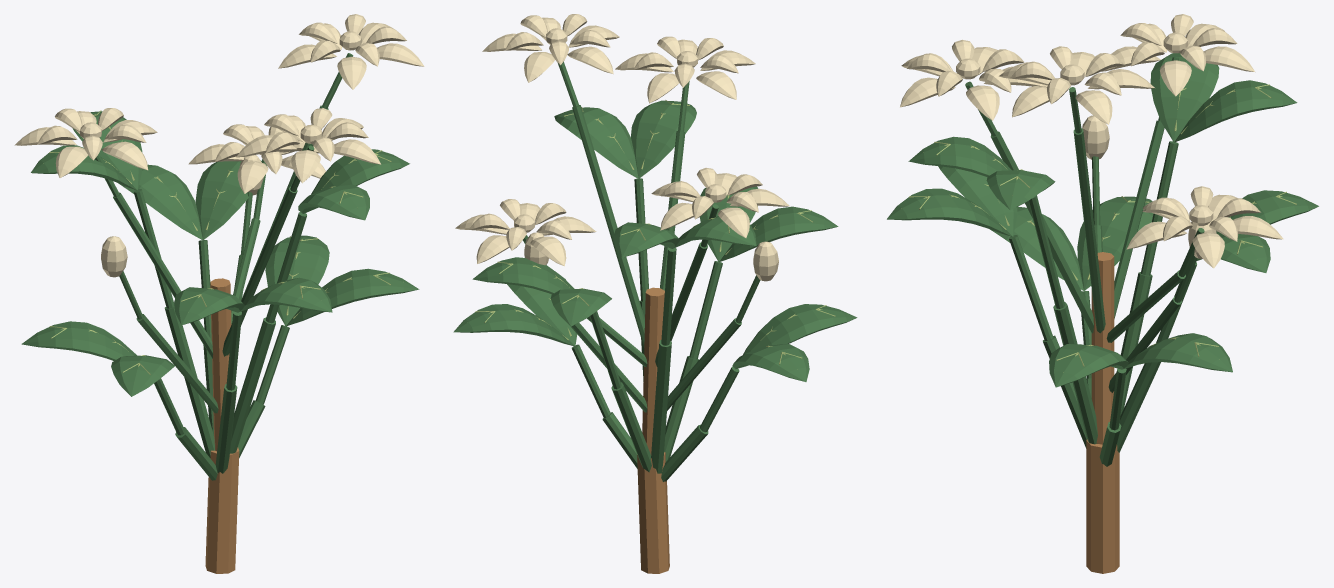
Rendered from SM_Jasmine.fbx.
3 views of the same model, side by side, from view 1: azimuth 30°, elevation 25°; view 2: azimuth 150°, elevation 25°; view 3: azimuth 270°, elevation 25° (orthographic). The views are drawn at different scales.
Parts seen in each view (by area): view 1: FoliageRoot, ReadyAccents; view 2: FoliageRoot, ReadyAccents; view 3: FoliageRoot, ReadyAccents.
Boxes of the visible parts, left/top/right/bottom form: FoliageRoot: left=21, top=53, right=419, bottom=573; ReadyAccents: left=14, top=14, right=424, bottom=193; FoliageRoot: left=453, top=62, right=857, bottom=573; ReadyAccents: left=455, top=14, right=789, bottom=266; FoliageRoot: left=887, top=53, right=1318, bottom=573; ReadyAccents: left=900, top=14, right=1283, bottom=268.
Bounding box in the file's own units: 0.6151 × 0.861 × 0.5981.
